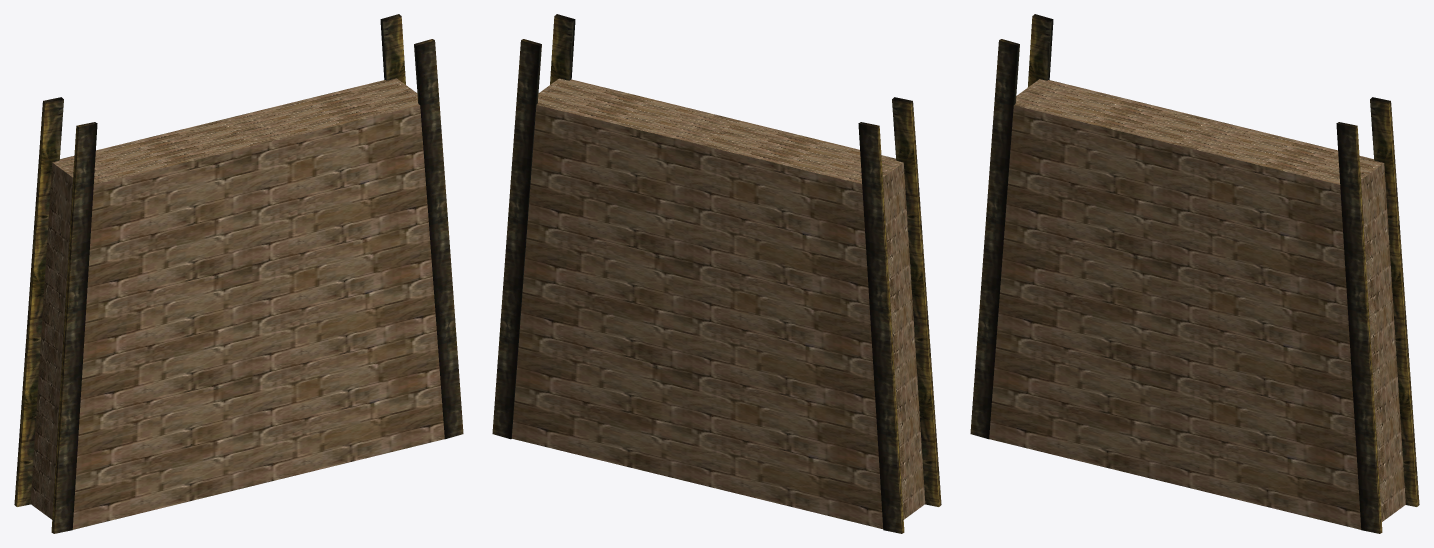
Rendered from CB_NEWPLAYSURFACE_TOWERWALL03.fbx.
The picture shows the model from 3 angles, left to right: view 1: azimuth 30°, elevation 25°; view 2: azimuth 150°, elevation 25°; view 3: azimuth 330°, elevation 25°; orthographic projection.
Visible parts, largest first — view 1: CB_NEWPLAYSURFACE_TOWERWALL03; view 2: CB_NEWPLAYSURFACE_TOWERWALL03; view 3: CB_NEWPLAYSURFACE_TOWERWALL03.
Boxes of the visible parts, box(x1,y1,x2,y2) form: CB_NEWPLAYSURFACE_TOWERWALL03: box(14, 14, 463, 533); CB_NEWPLAYSURFACE_TOWERWALL03: box(492, 14, 941, 533); CB_NEWPLAYSURFACE_TOWERWALL03: box(970, 14, 1419, 533).
Bounding box in the file's own units: 65922 × 61538 × 11054.
2 materials, 2 textured.
